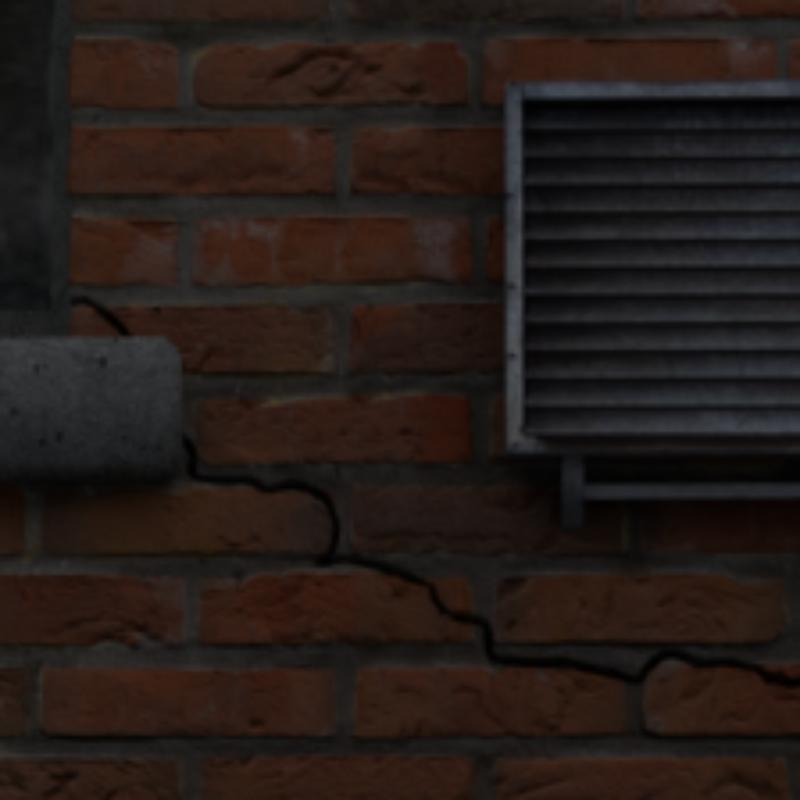pothole: (459, 616, 796, 682), (186, 436, 357, 564), (357, 561, 449, 613), (75, 300, 129, 332)
